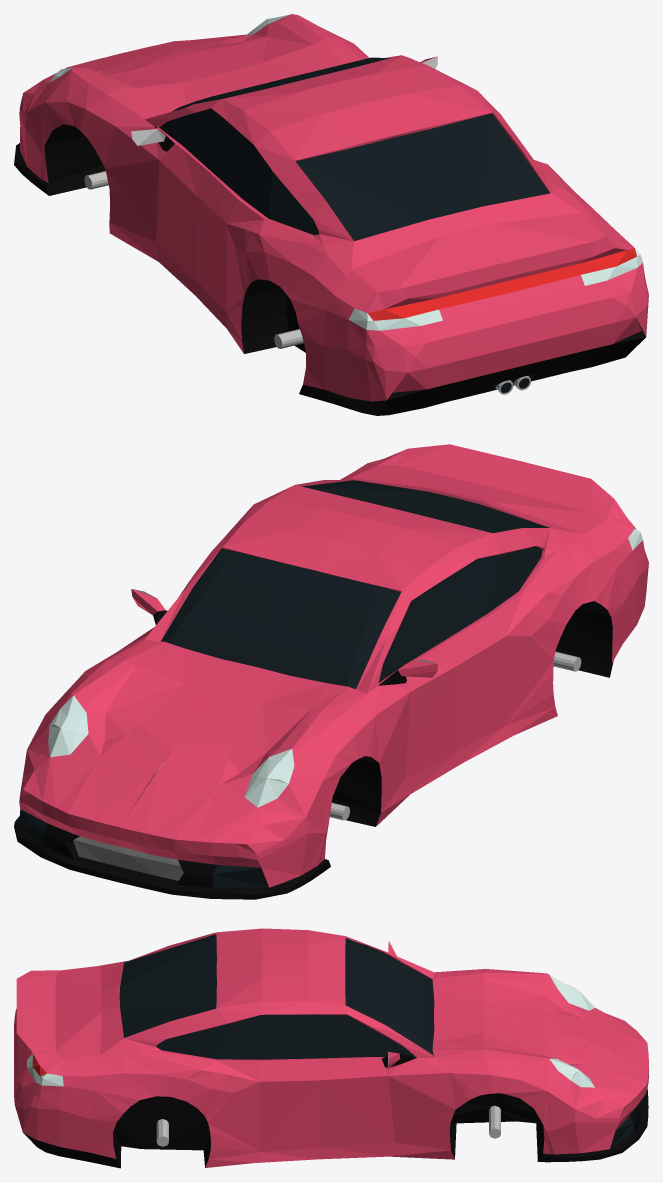
File: ProjectT_car.fbx
3 renders of one model, top to bottom at view 1: azimuth 30°, elevation 25°; view 2: azimuth 150°, elevation 25°; view 3: azimuth 270°, elevation 25°, orthographic. The views are drawn at different scales.
Parts seen in each view (by area): view 1: Cube; view 2: Cube; view 3: Cube.
Part boxes in pixels (left/top/right/bottom): Cube: left=14, top=14, right=648, bottom=415; Cube: left=14, top=444, right=648, bottom=899; Cube: left=14, top=928, right=648, bottom=1168.
Bounding box in the file's own units: 116 × 66.08 × 257.
